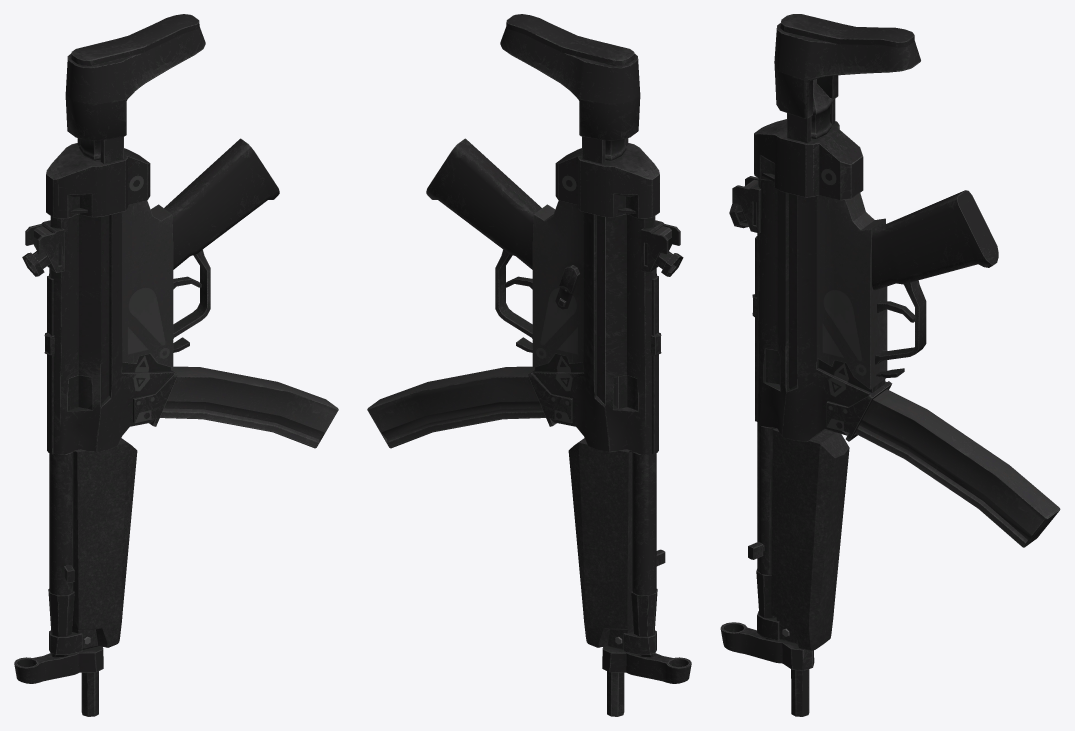
3 renders of one model, left to right at view 1: azimuth 30°, elevation 25°; view 2: azimuth 150°, elevation 25°; view 3: azimuth 330°, elevation 25°, orthographic. The views are drawn at different scales.
Visible parts, largest first — view 1: Handle1, Mag1; view 2: Handle1, Mag1, Switch1; view 3: Handle1, Mag1.
Boxes of the visible parts, <box> form: Handle1: <box>14,14,279,716</box>; Mag1: <box>160,366,338,448</box>; Handle1: <box>426,14,691,716</box>; Mag1: <box>367,366,545,448</box>; Switch1: <box>555,265,579,309</box>; Handle1: <box>720,14,998,716</box>; Mag1: <box>855,389,1060,547</box>.
Bounding box in the file's own units: 1.94 × 3.92 × 0.334.
1 material, 1 textured.
